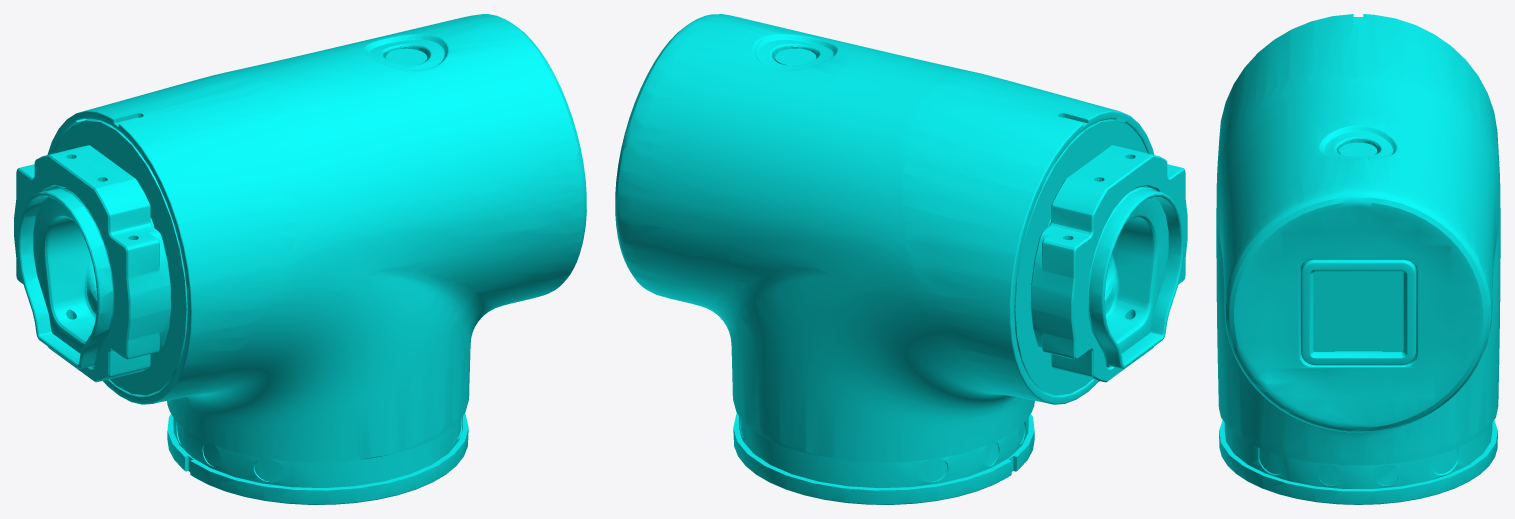
The picture shows the model from 3 angles, left to right: view 1: azimuth 30°, elevation 25°; view 2: azimuth 150°, elevation 25°; view 3: azimuth 270°, elevation 25°; orthographic projection. The views are drawn at different scales.
Visible parts, largest first — view 1: solid_myCobot_320_M5_2022v1.2_230708_-___________W-J6_____my; view 2: solid_myCobot_320_M5_2022v1.2_230708_-___________W-J6_____my; view 3: solid_myCobot_320_M5_2022v1.2_230708_-___________W-J6_____my (×4).
Boxes of the visible parts, x1=… form: solid_myCobot_320_M5_2022v1.2_230708_-___________W-J6_____my: x1=14, y1=14, x2=586, y2=504; solid_myCobot_320_M5_2022v1.2_230708_-___________W-J6_____my: x1=615, y1=14, x2=1187, y2=504; solid_myCobot_320_M5_2022v1.2_230708_-___________W-J6_____my (×4): x1=1216, y1=14, x2=1500, y2=504.
Size of the model in its own units: 103 by 59.32 by 79.6.
